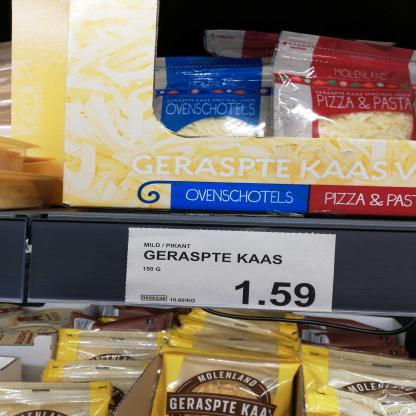prtg: (127, 228, 338, 314)
